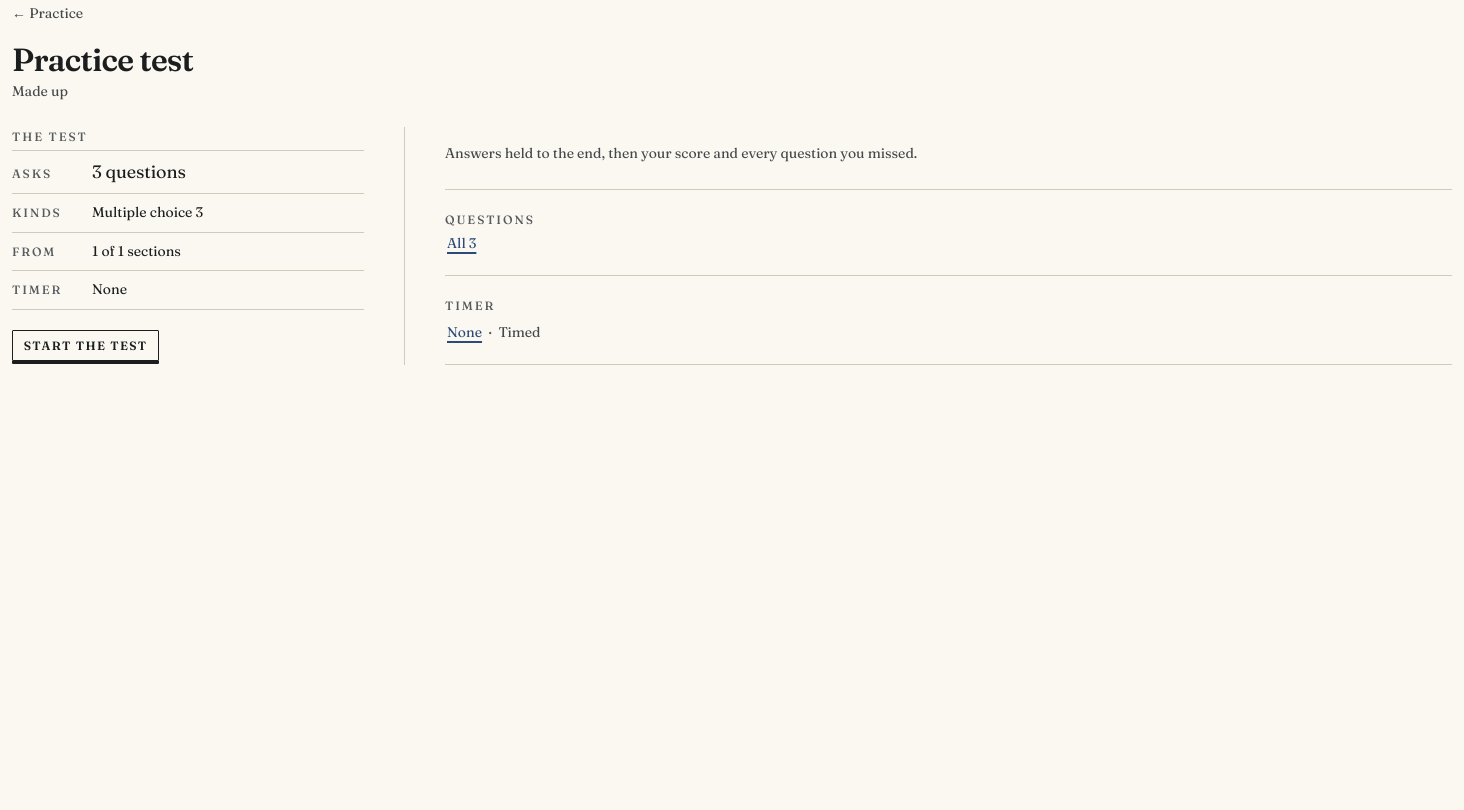
practice test: a rehearsal, answers at the end › ends and is marked when the time set runs out
Later steps or results of the test are not shown.
Step 1. Click the button "Timed" → (520,333), box top-left (496, 322), bottom-right (543, 344)
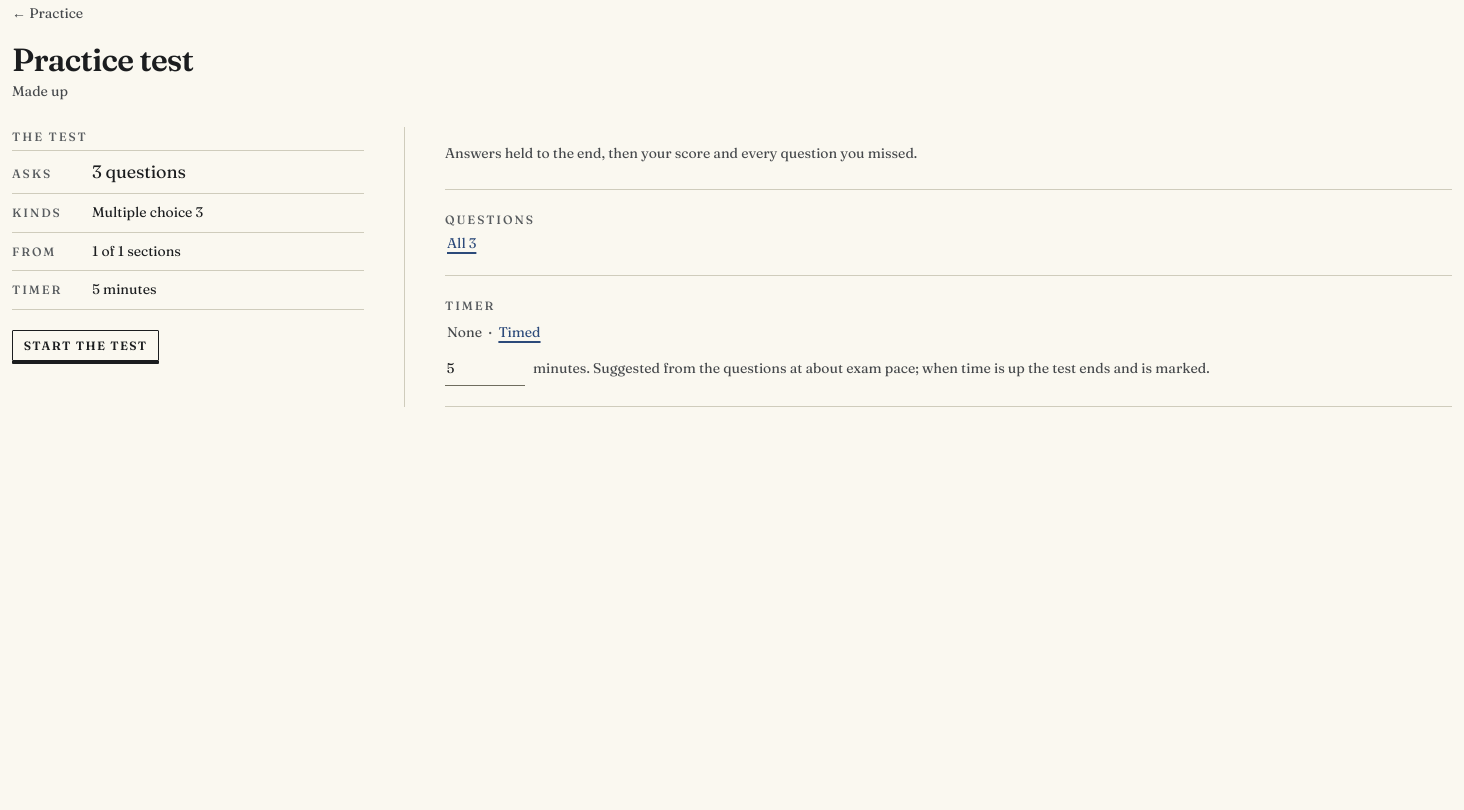
Step 2. Replace the text in the number field with "1" → (485,369), box top-left (445, 352), bottom-right (525, 386)
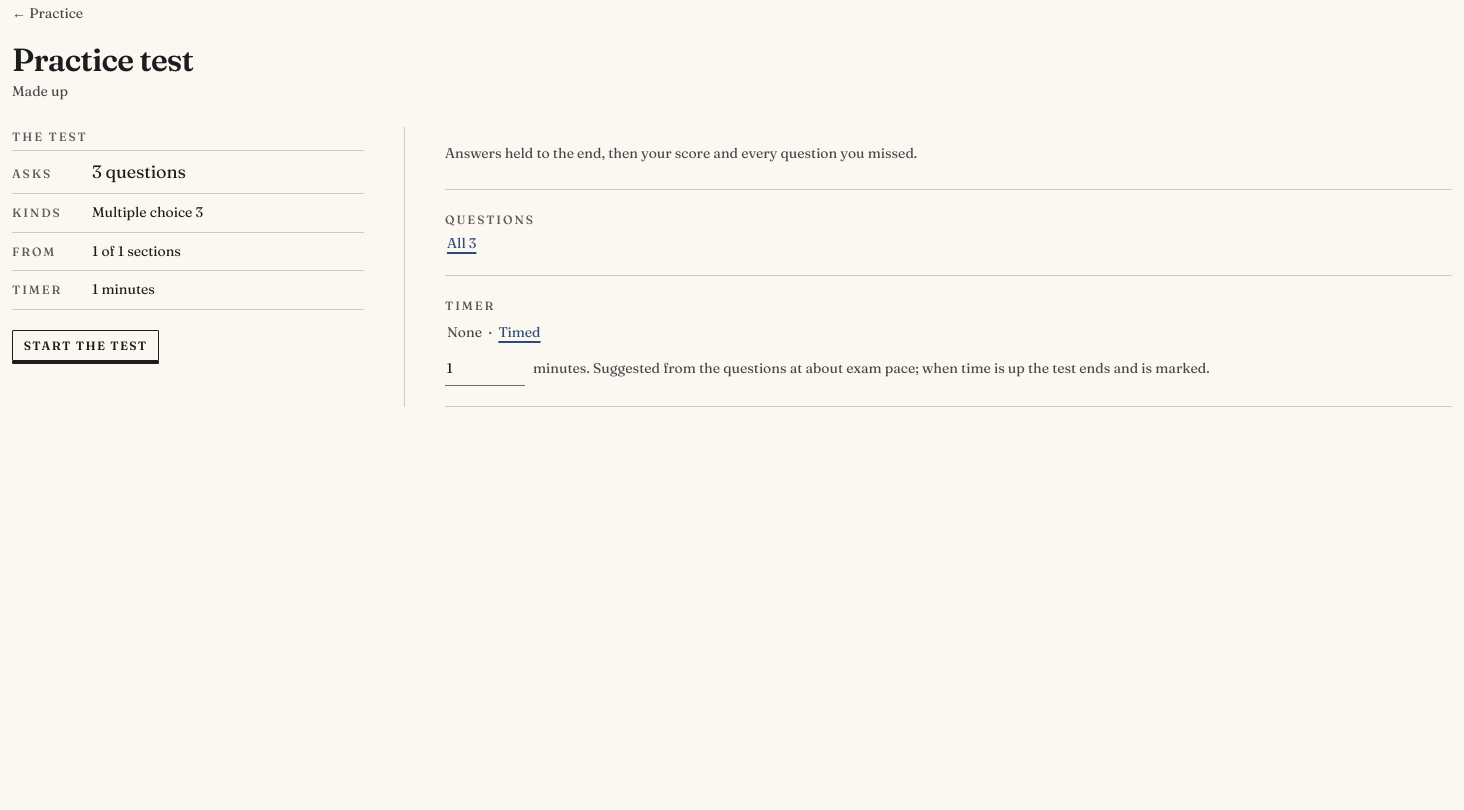
Step 3. Click the button "Start the test" → (86,346), box top-left (12, 330), bottom-right (159, 361)
Wait 61000 ms
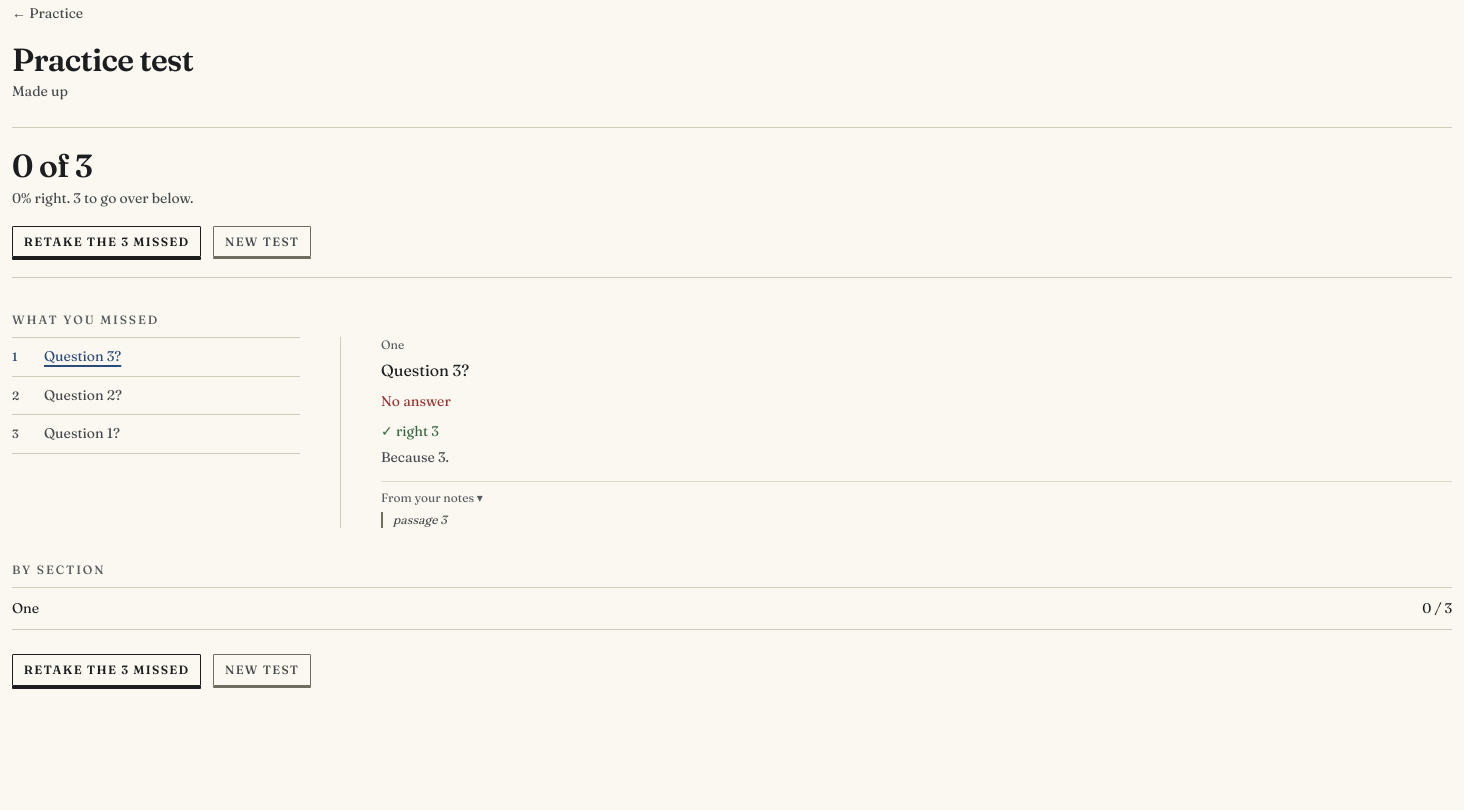
Expected: the text "0 of 3" is shown, top-left (12, 146), bottom-right (92, 185)
